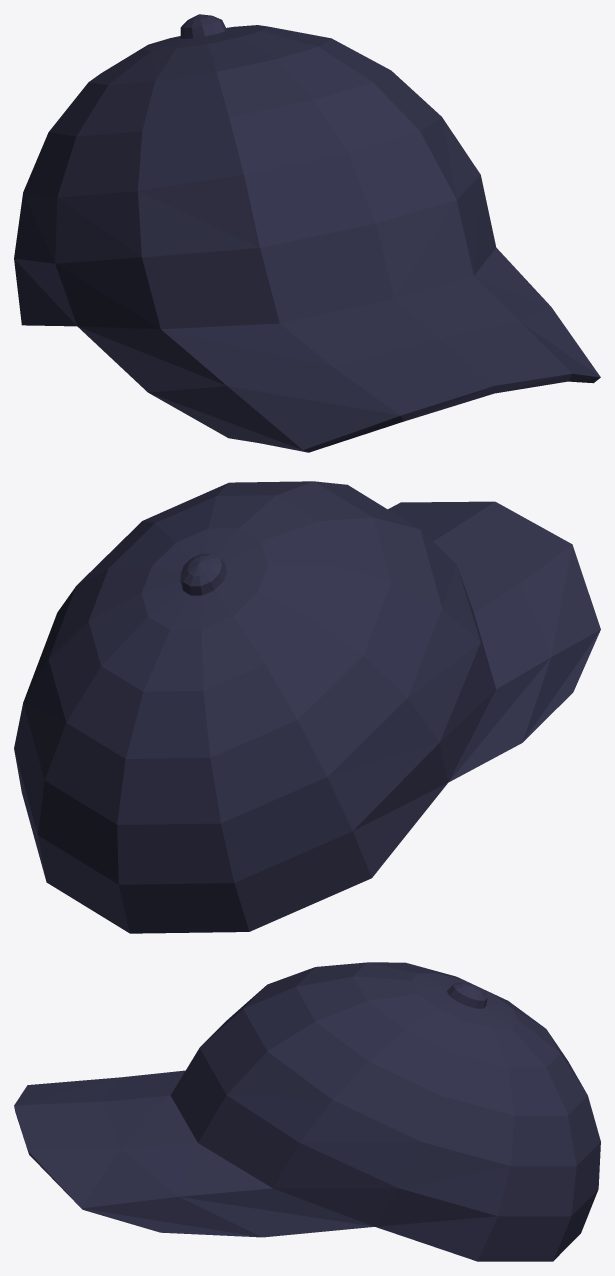
Rendered from aaC5GgcWEhM.glb.
3 renders of one model, top to bottom at view 1: azimuth 30°, elevation 25°; view 2: azimuth 150°, elevation 25°; view 3: azimuth 270°, elevation 25°, orthographic. The views are drawn at different scales.
Visible parts, largest first — view 1: Node; view 2: Node; view 3: Node.
Part boxes in pixels (x1,y1,x2,y2): Node: [14, 14, 600, 452]; Node: [14, 481, 600, 933]; Node: [14, 962, 600, 1261].
Size of the model in its own units: 1.22 by 0.9999 by 2.07.
